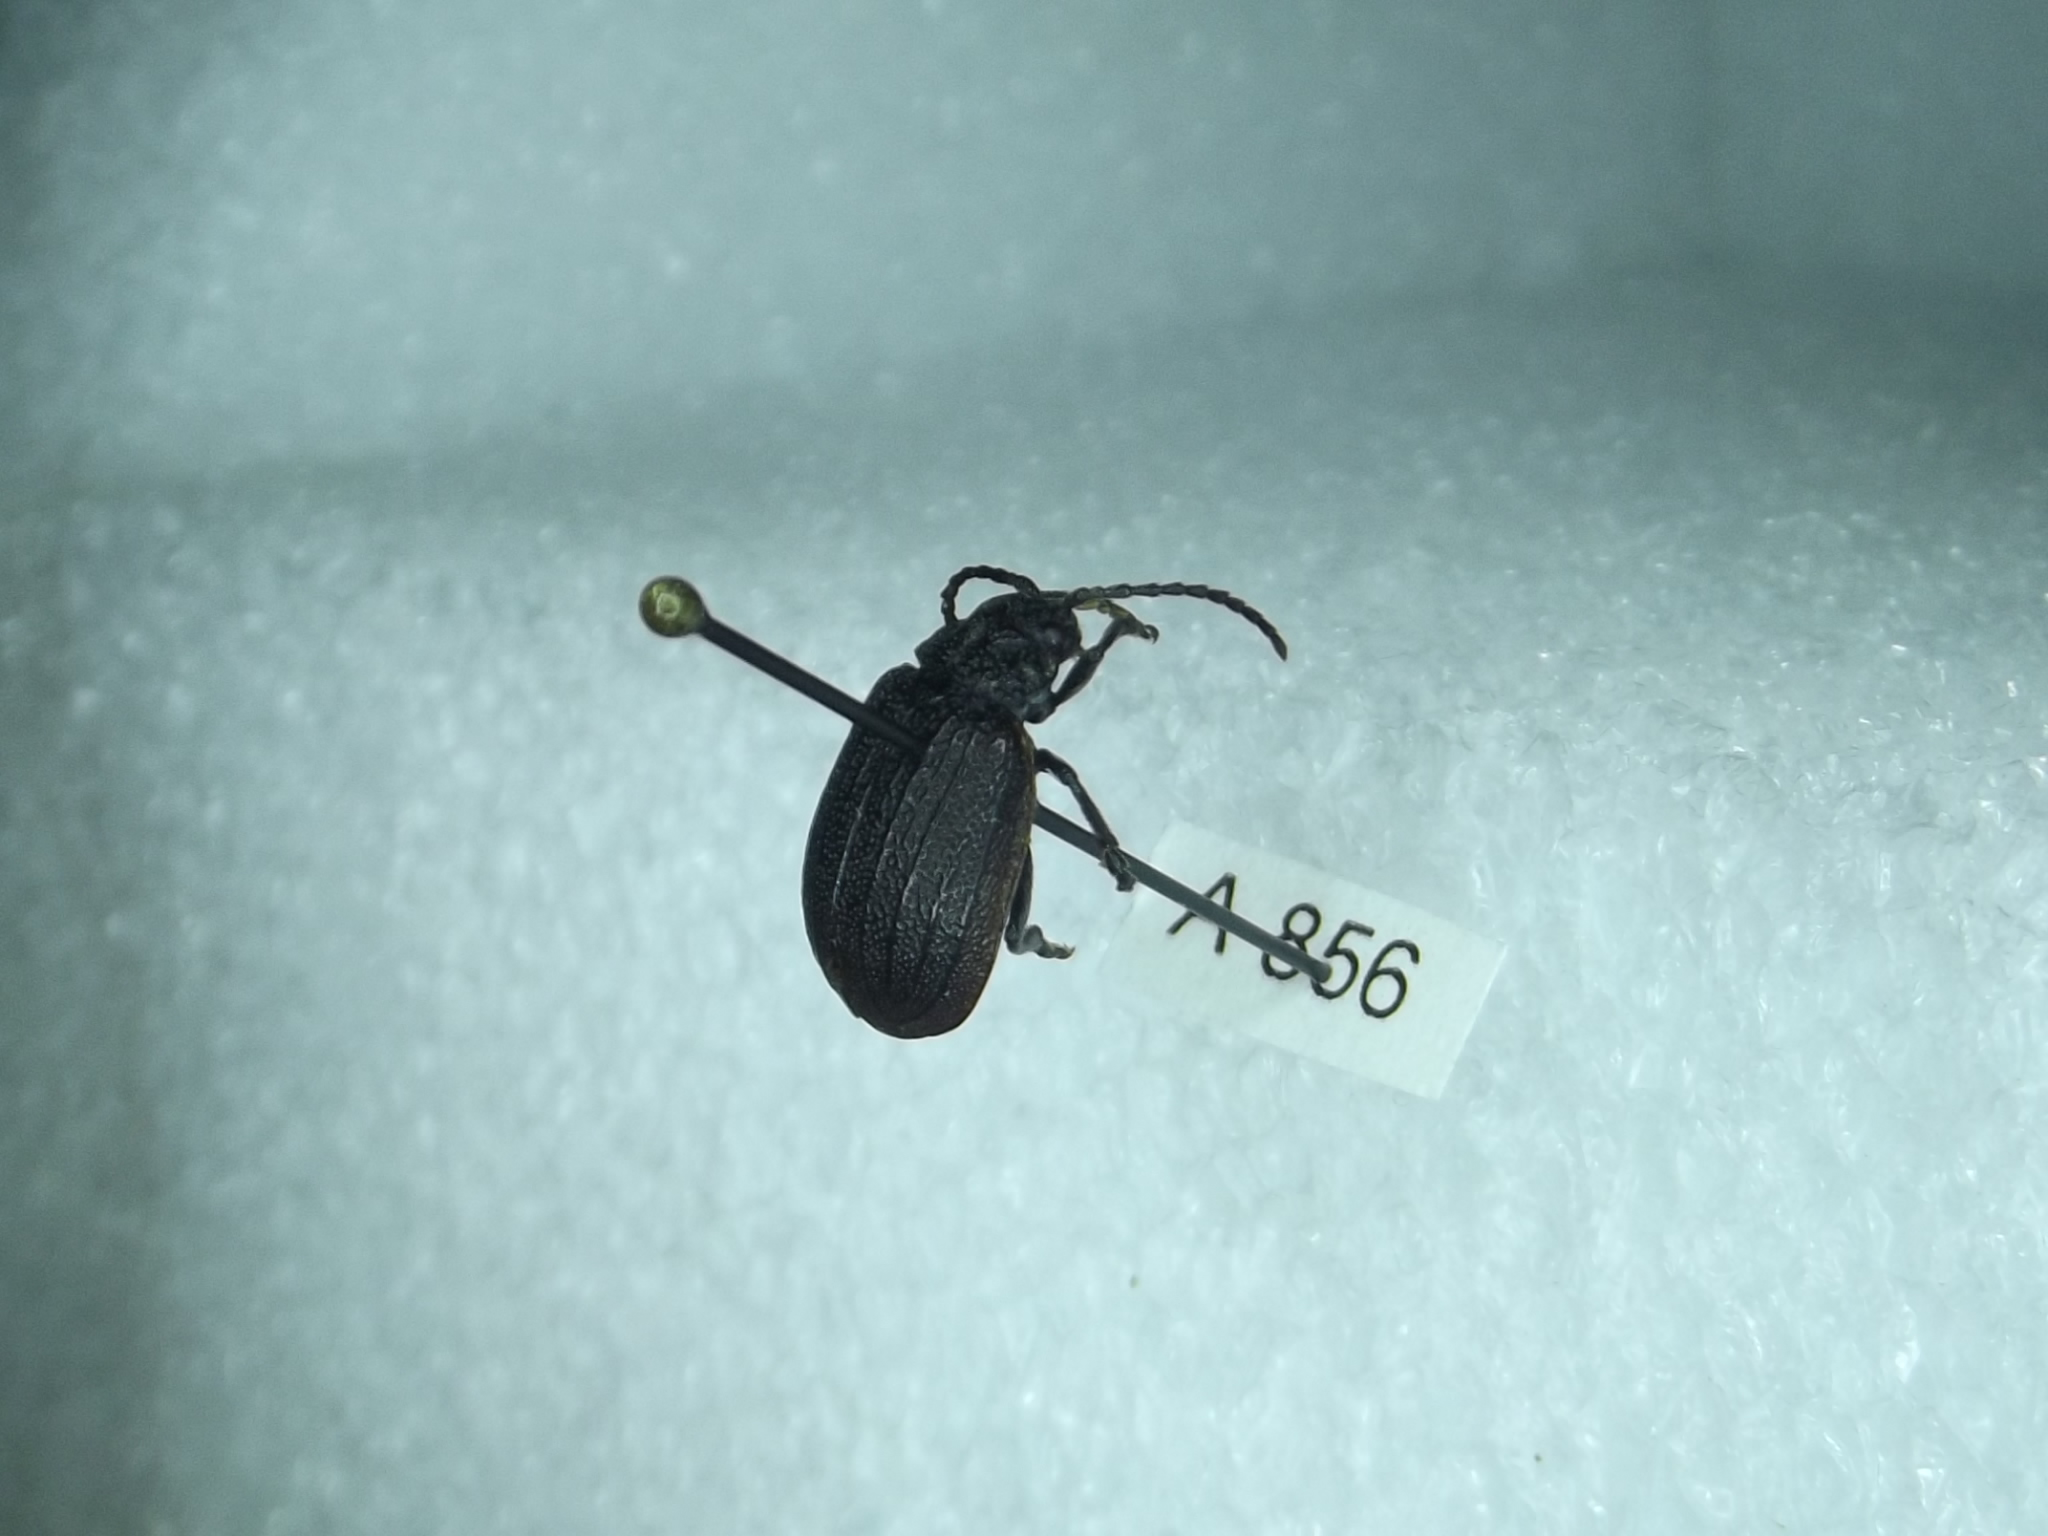Galeruca_tanaceti: (801, 557, 1303, 1050)
